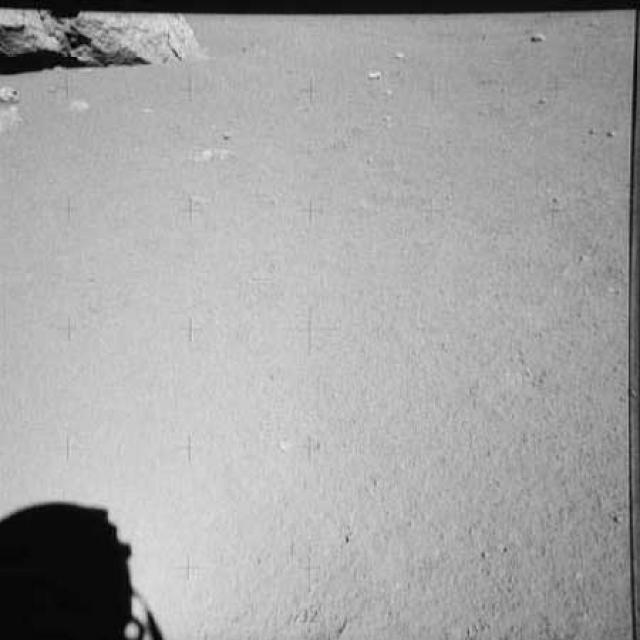rock: (0, 5, 207, 74)
